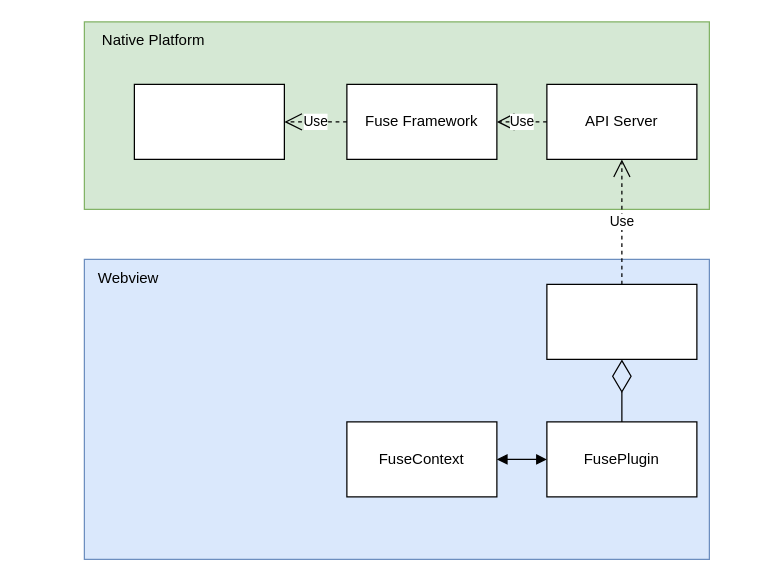
Image size: 768x581. Some labels were removed from this diagram. The shapes that lost their labels are listed below. From the top down, each one's box as (x1, y1, x2, y2) in pixels, then its label:
(133, 83, 284, 159): Device APIs
(546, 283, 697, 359): FuseAPI
